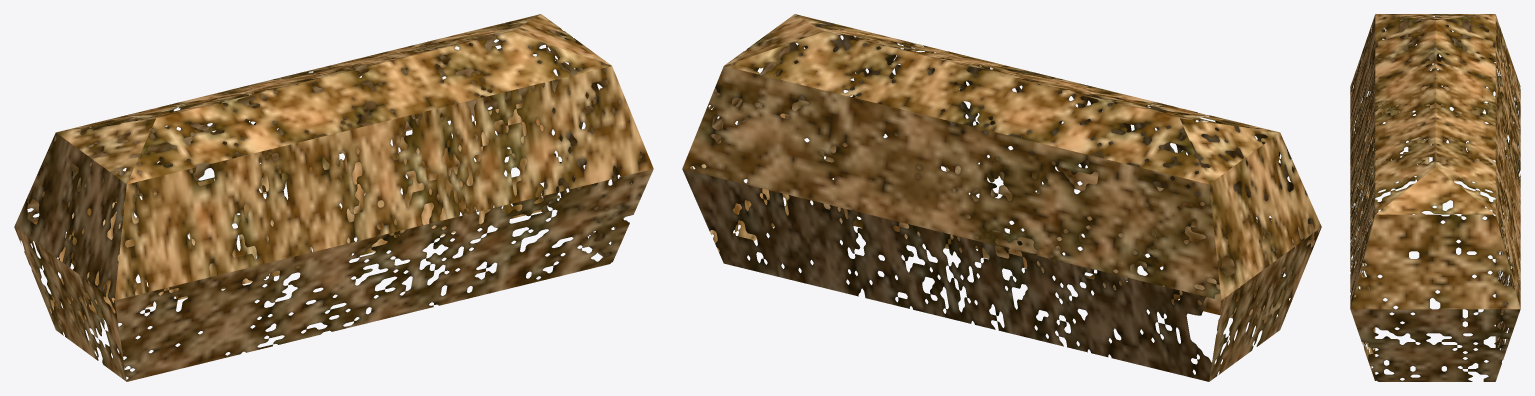
Rendered from bush_long_single_autumn.fbx.
The picture shows the model from 3 angles, left to right: view 1: azimuth 30°, elevation 25°; view 2: azimuth 150°, elevation 25°; view 3: azimuth 270°, elevation 25°; orthographic projection. The views are drawn at different scales.
Parts seen in each view (by area): view 1: bush_long_single_autumn; view 2: bush_long_single_autumn; view 3: bush_long_single_autumn.
Boxes of the visible parts, <box> form: bush_long_single_autumn: <box>14,14,653,381</box>; bush_long_single_autumn: <box>682,14,1321,381</box>; bush_long_single_autumn: <box>1350,14,1520,381</box>.
Bounding box in the file's own units: 223 × 87.65 × 71.91.
Materials: 1 (1 with a texture image).
